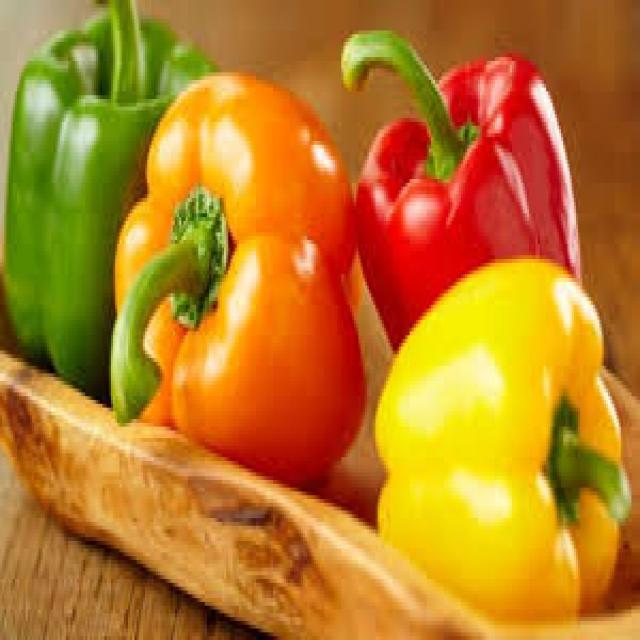Pepper: (110, 72, 369, 501), (372, 255, 633, 627), (2, 0, 219, 404), (345, 32, 581, 353)
